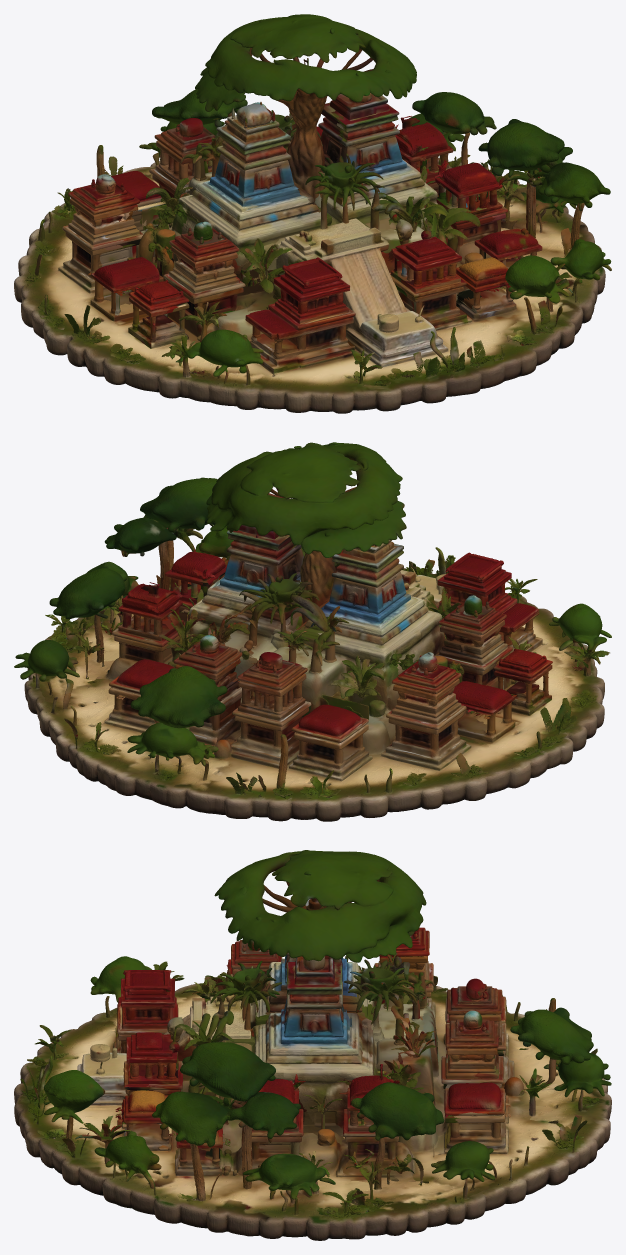
File: city_level2 2.glb
3 renders of one model, top to bottom at view 1: azimuth 30°, elevation 25°; view 2: azimuth 150°, elevation 25°; view 3: azimuth 270°, elevation 25°, orthographic. The views are drawn at different scales.
Bounding box in the file's own units: 1.83 × 0.8593 × 1.83.
Materials: 1 (1 with a texture image).
